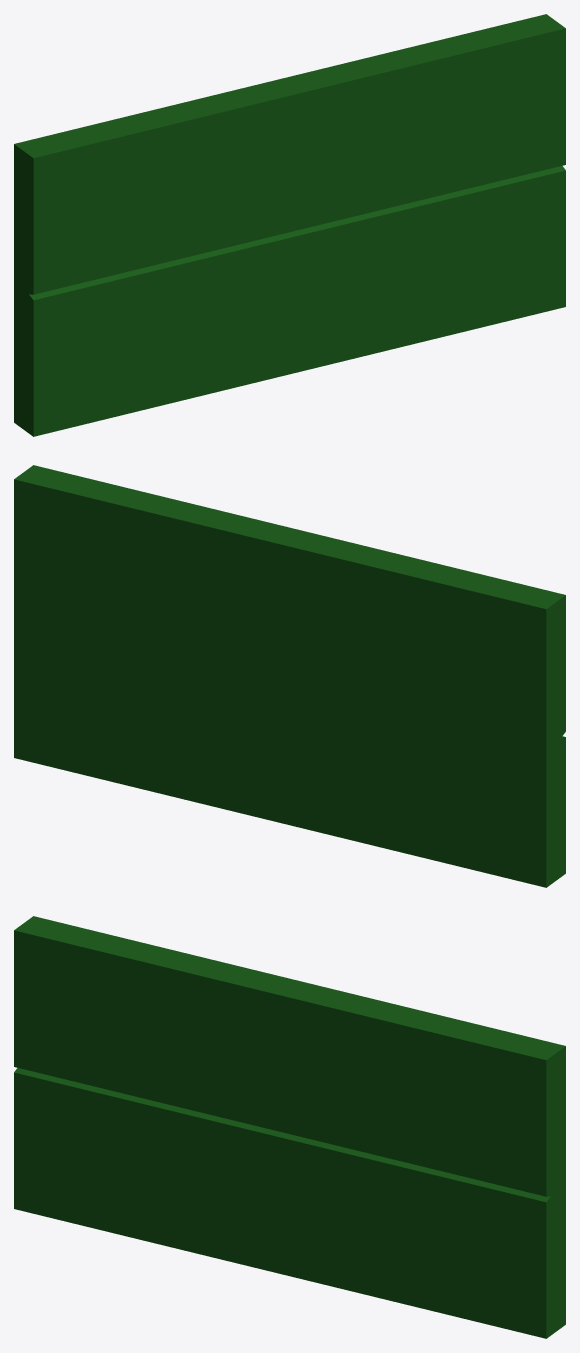
File: Pared1.FBX
The picture shows the model from 3 angles, top to bottom: view 1: azimuth 30°, elevation 25°; view 2: azimuth 150°, elevation 25°; view 3: azimuth 330°, elevation 25°; orthographic projection.
Visible parts, largest first — view 1: Pared1_LP; view 2: Pared1_LP; view 3: Pared1_LP.
Boxes of the visible parts, x1,y1,x2,y2 form: Pared1_LP: (14, 14, 565, 436); Pared1_LP: (14, 465, 565, 887); Pared1_LP: (14, 916, 565, 1338).
Bounding box in the file's own units: 157 × 78.74 × 10.
